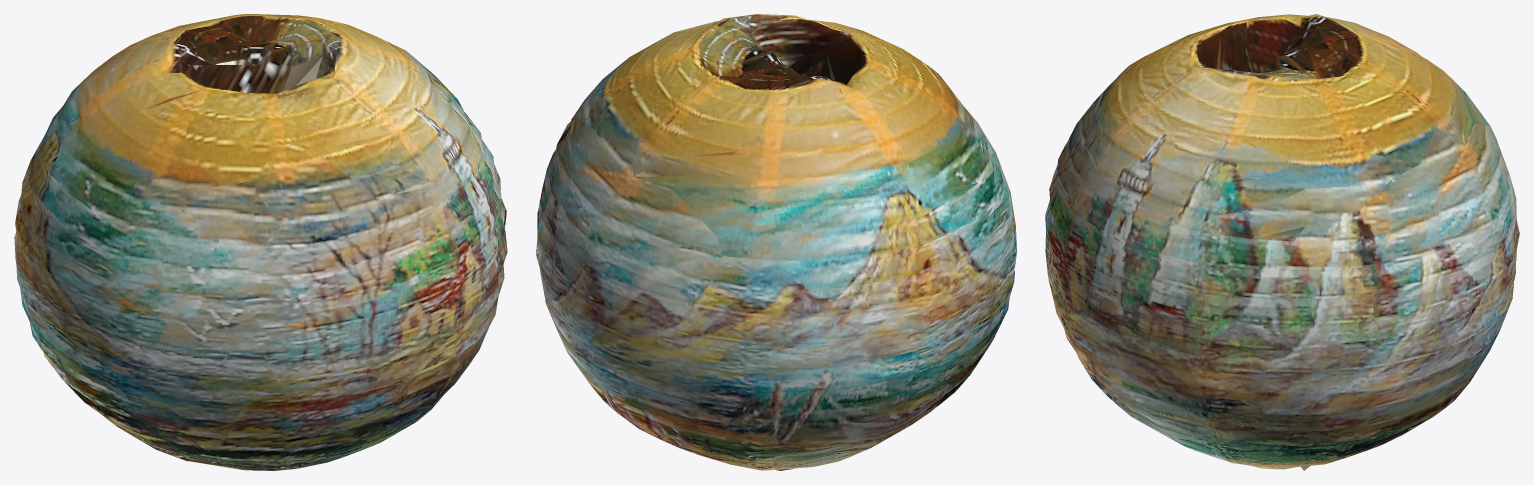
The model's file is AT5 ChanLim Landscape9.glb.
The picture shows the model from 3 angles, left to right: view 1: azimuth 30°, elevation 25°; view 2: azimuth 150°, elevation 25°; view 3: azimuth 270°, elevation 25°; orthographic projection. The views are drawn at different scales.
Size of the model in its own units: 1000 by 955 by 993.
1 material, 1 textured.
